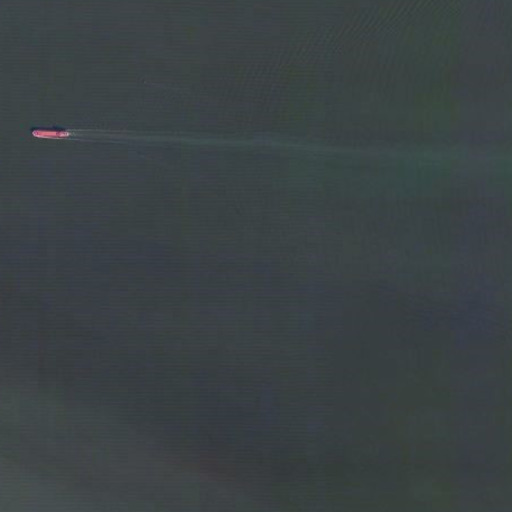ship: (27, 124, 73, 144)
